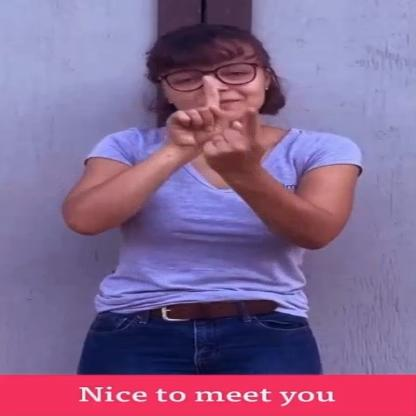NiceToMeetYou: (59, 22, 362, 377)
